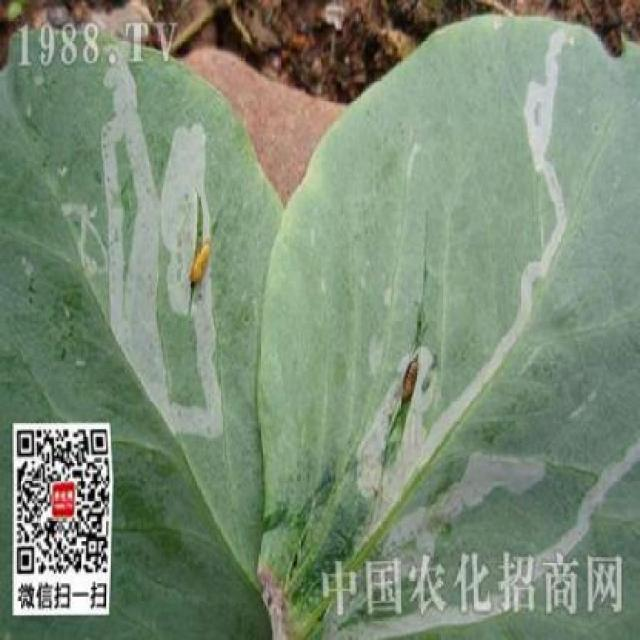whorl-maggot: (186, 235, 217, 297), (400, 354, 423, 408)
